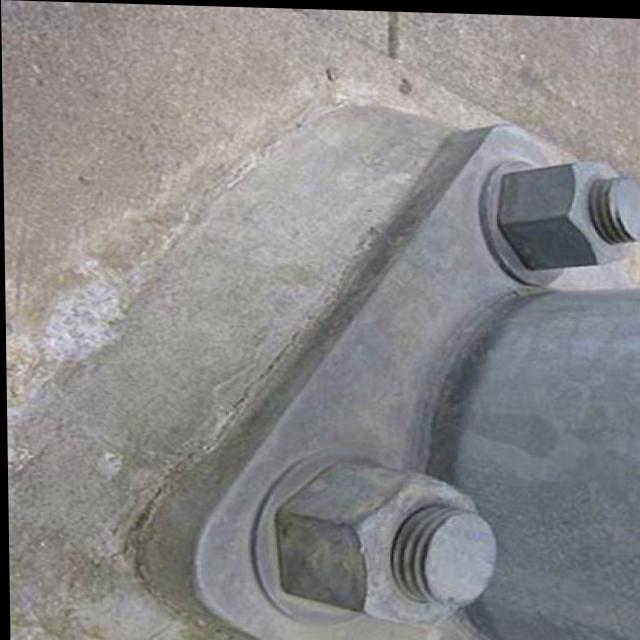Regular bolt: (275, 457, 499, 629), (498, 157, 640, 273)
